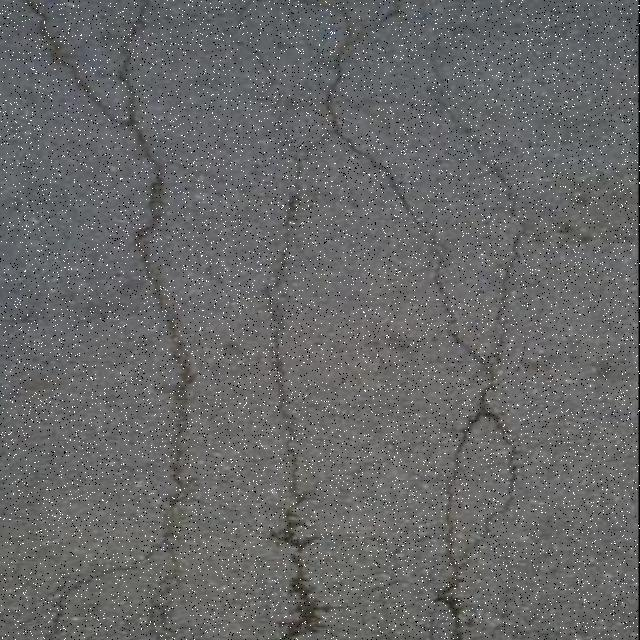Crack: (24, 1, 292, 640), (320, 0, 530, 565), (236, 0, 337, 640), (429, 408, 518, 640), (300, 486, 444, 600), (300, 0, 412, 66), (322, 600, 359, 606)
